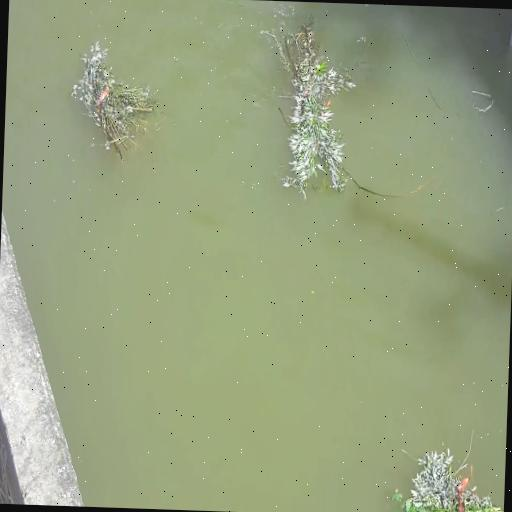twig: (262, 8, 358, 200), (71, 40, 163, 166), (391, 431, 505, 512)
